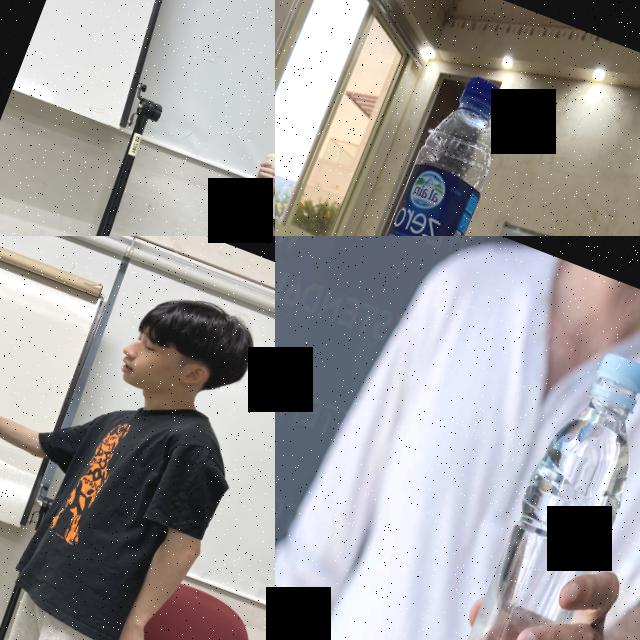bottle: (414, 328, 640, 640), (316, 59, 523, 236)
cup: (252, 148, 275, 199)
